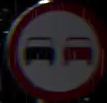No overtake: (6, 3, 103, 95)
